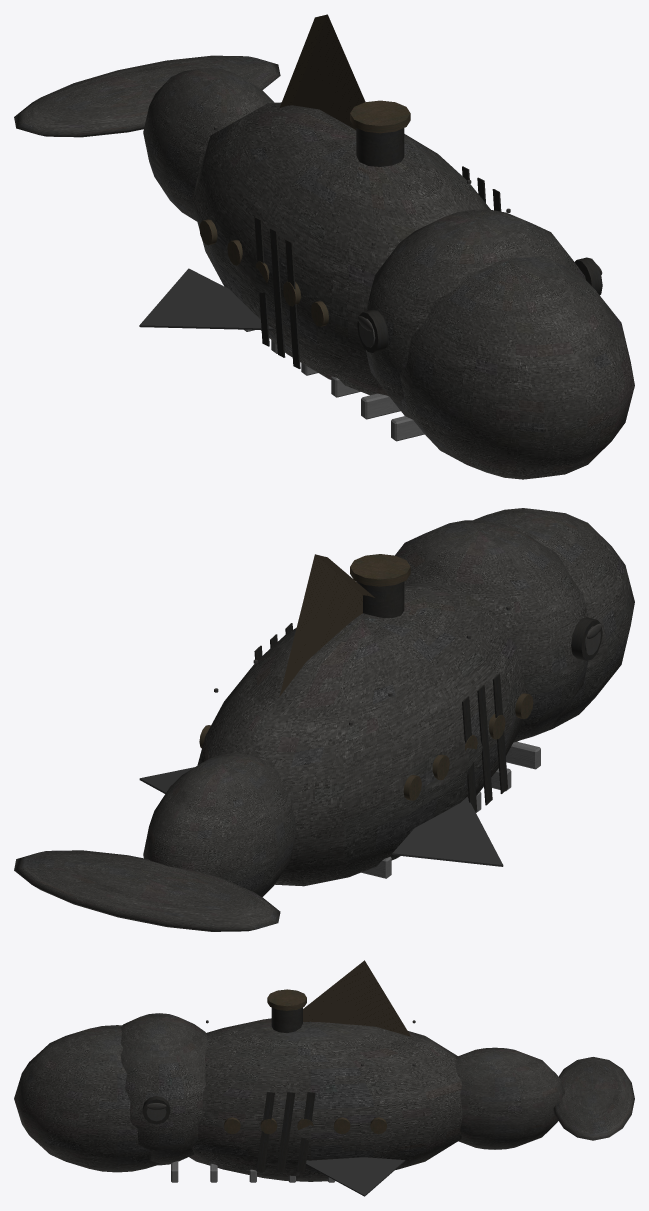
Rendered from wild-kazan-balina.glb.
The picture shows the model from 3 angles, top to bottom: view 1: azimuth 30°, elevation 25°; view 2: azimuth 150°, elevation 25°; view 3: azimuth 270°, elevation 25°; orthographic projection. The views are drawn at different scales.
Parts seen in each view (by area): view 1: KazanBalina__Body_Mesh, KazanBalina__Head_Mesh, KazanBalina__Tail_Mesh, KazanBalina__TailTip_Mesh, KazanBalina__Fin_L_Mesh, KazanBalina__BlowValve_Mesh; view 2: KazanBalina__Body_Mesh, KazanBalina__Tail_Mesh, KazanBalina__TailTip_Mesh, KazanBalina__Head_Mesh, KazanBalina__Fin_L_Mesh, KazanBalina__BlowValve_Mesh; view 3: KazanBalina__Body_Mesh, KazanBalina__Head_Mesh, KazanBalina__Tail_Mesh, KazanBalina__TailTip_Mesh, KazanBalina__Fin_R_Mesh, KazanBalina__BlowValve_Mesh.
Boxes of the visible parts, <box> form: KazanBalina__Body_Mesh: <box>192,14,585,441</box>; KazanBalina__Head_Mesh: <box>357,255,634,479</box>; KazanBalina__Tail_Mesh: <box>143,67,274,221</box>; KazanBalina__TailTip_Mesh: <box>14,55,280,137</box>; KazanBalina__Fin_L_Mesh: <box>139,268,274,330</box>; KazanBalina__BlowValve_Mesh: <box>350,100,410,166</box>; KazanBalina__Body_Mesh: <box>197,520,588,886</box>; KazanBalina__Tail_Mesh: <box>143,753,296,896</box>; KazanBalina__TailTip_Mesh: <box>14,850,280,931</box>; KazanBalina__Head_Mesh: <box>473,508,634,739</box>; KazanBalina__Fin_L_Mesh: <box>392,797,503,866</box>; KazanBalina__BlowValve_Mesh: <box>350,554,410,618</box>; KazanBalina__Body_Mesh: <box>120,960,462,1182</box>; KazanBalina__Head_Mesh: <box>14,1025,170,1172</box>; KazanBalina__Tail_Mesh: <box>455,1047,564,1149</box>; KazanBalina__TailTip_Mesh: <box>553,1057,634,1140</box>; KazanBalina__Fin_R_Mesh: <box>306,1157,405,1196</box>; KazanBalina__BlowValve_Mesh: <box>267,989,306,1032</box>.
Bounding box in the file's own units: 5.27 × 4.48 × 11.88.
Materials: 7 (7 with a texture image).
